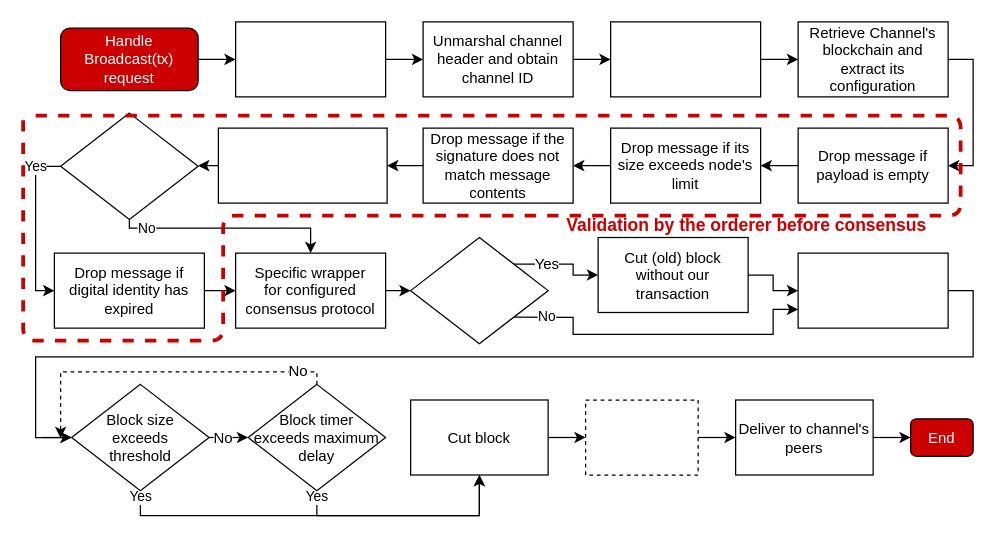
Image size: 1005x548. Some labels were removed from this diagram. Here are the shapes that lost their labels. From the top down, the box of each, then its label:
(234, 21, 386, 97): Broadcast(tx) is caught by a handler and forwards it for processing
(609, 21, 761, 97): Ensure channel exists
(59, 112, 198, 219): Digital Identities configured to expire?
(217, 127, 387, 203): Drop message if submitting client does not satisfy Channel.Writers policy
(409, 236, 548, 344): Message will exceed block size?
(797, 252, 948, 328): Put ordered transaction in buffer for the next block
(584, 399, 698, 475): Consensus Protocol (omitted)
